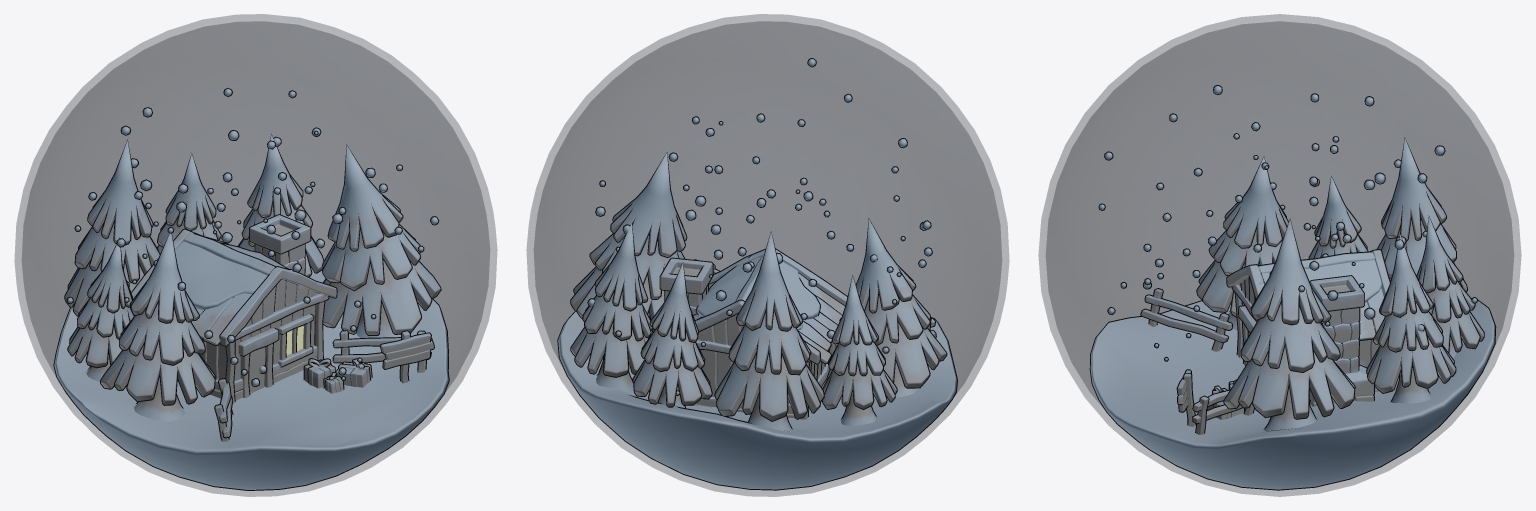
3 renders of one model, left to right at view 1: azimuth 30°, elevation 25°; view 2: azimuth 150°, elevation 25°; view 3: azimuth 270°, elevation 25°, orthographic.
Parts seen in each view (by area): view 1: glass, christmass_ball; view 2: glass, christmass_ball; view 3: glass, christmass_ball.
Boxes of the visible parts, left/top/right/bottom form: glass: left=14, top=14, right=497, bottom=496; christmass_ball: left=53, top=88, right=449, bottom=490; glass: left=526, top=14, right=1009, bottom=496; christmass_ball: left=557, top=58, right=957, bottom=490; glass: left=1038, top=14, right=1521, bottom=496; christmass_ball: left=1089, top=84, right=1496, bottom=490.
Size of the model in its own units: 20 by 20 by 20.
